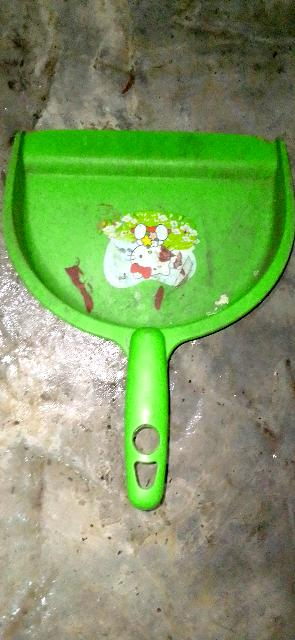hardplastic: (0, 120, 295, 345)
